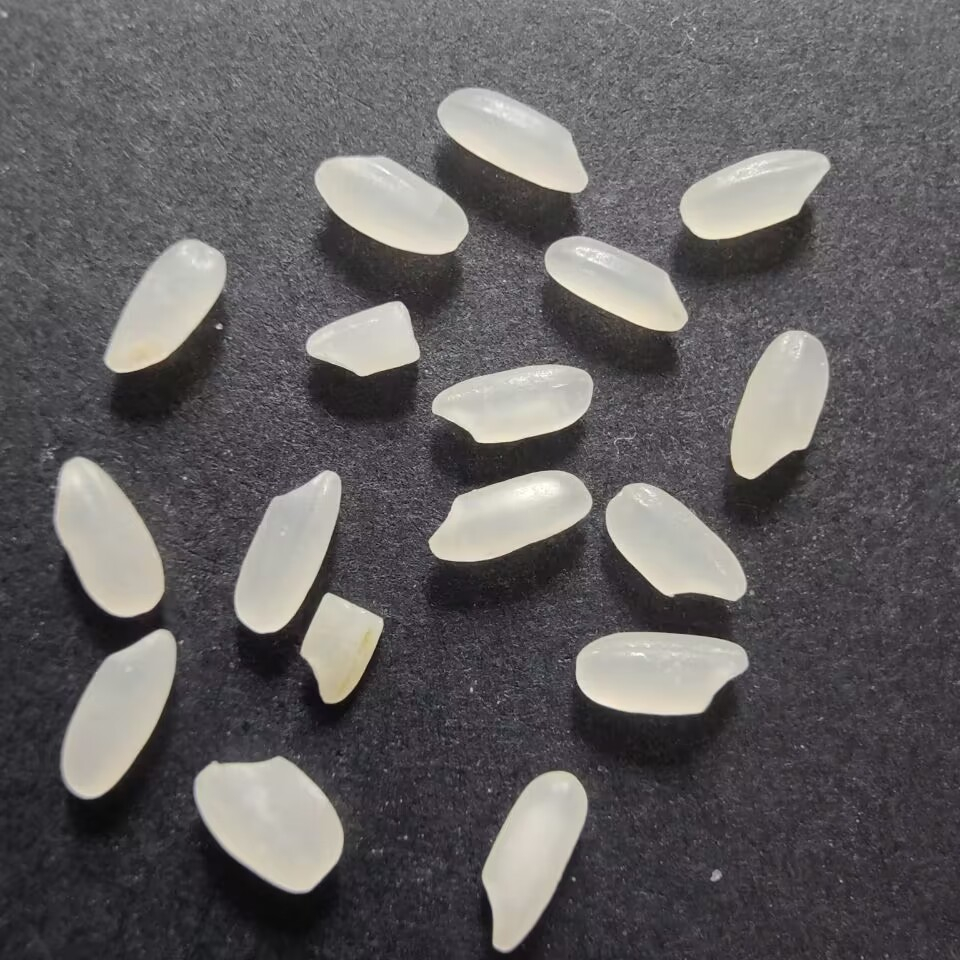broken: (295, 591, 389, 709), (298, 295, 422, 382)
rice: (188, 752, 351, 901), (58, 624, 180, 806), (475, 768, 589, 956), (231, 463, 347, 639), (600, 476, 752, 609), (49, 456, 169, 622), (97, 232, 229, 382), (434, 82, 593, 201), (568, 627, 754, 726), (426, 463, 600, 568), (304, 150, 471, 256), (727, 322, 832, 482), (676, 144, 834, 245), (538, 233, 688, 337), (424, 358, 596, 448)
